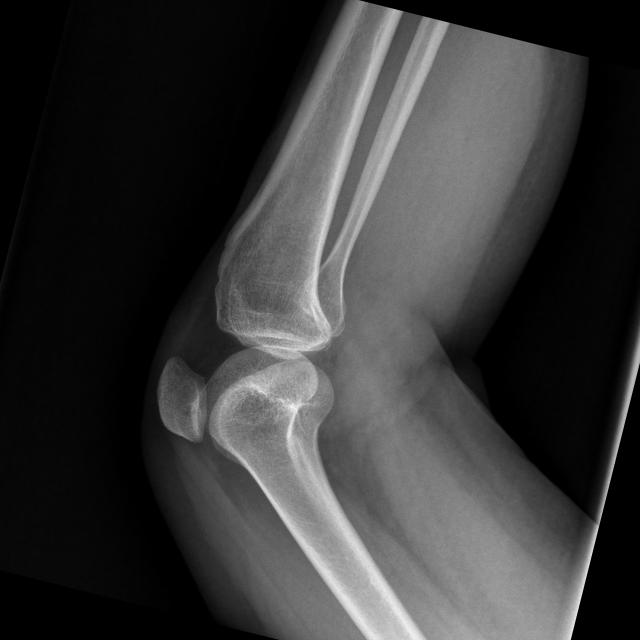Knee: (145, 252, 365, 473)
